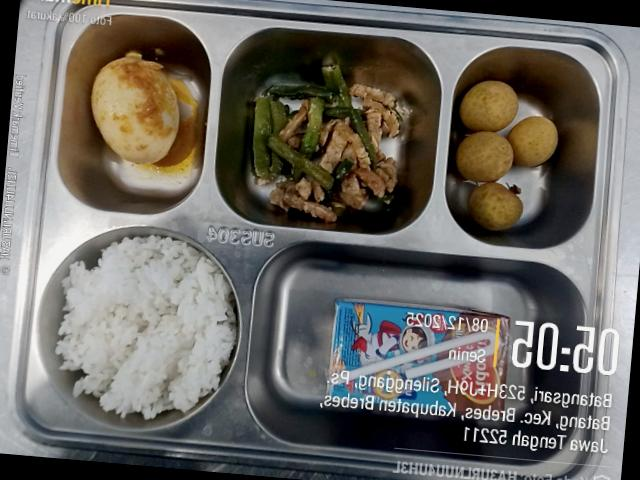buah: (456, 80, 557, 230)
nasi: (55, 235, 236, 419)
sayur: (263, 84, 333, 102)
susu: (323, 298, 509, 414)
telur: (91, 53, 179, 163)
tempe: (319, 121, 347, 172)
